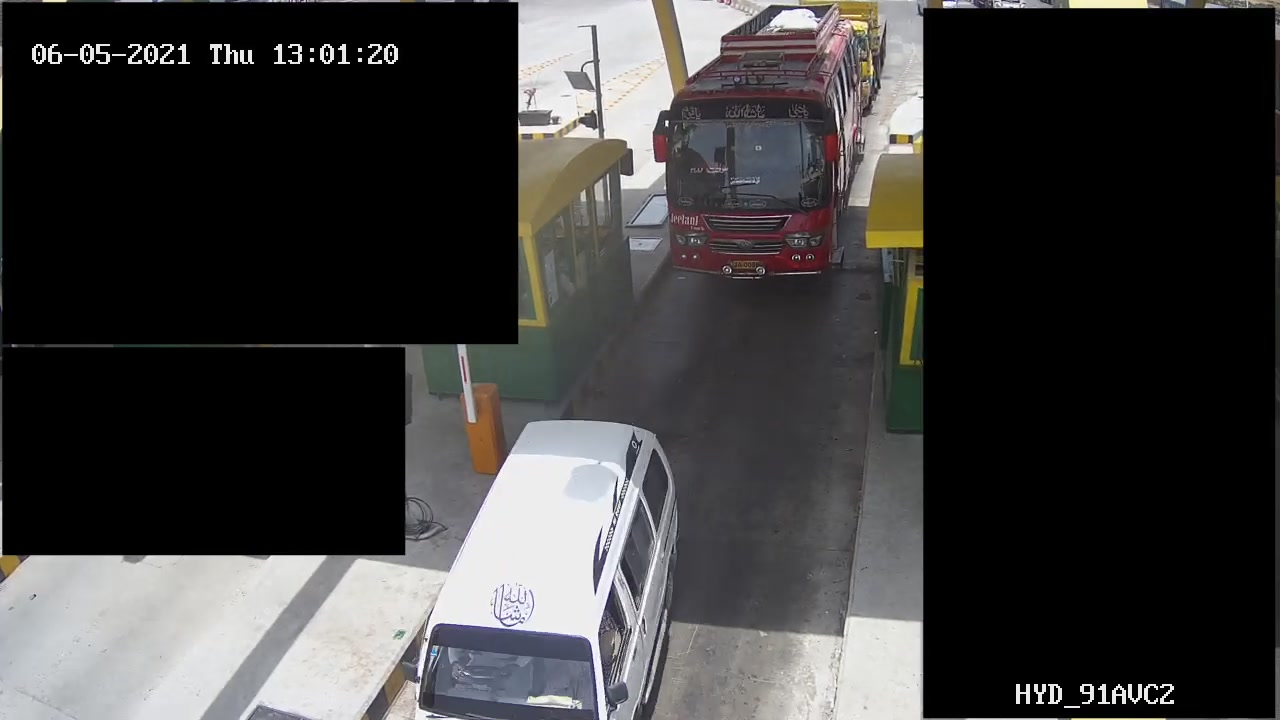F4: (653, 9, 868, 290)
